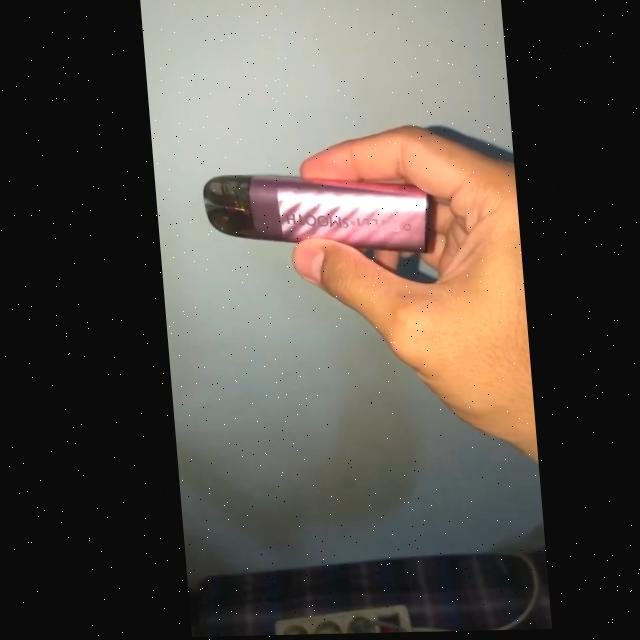vape: (197, 170, 433, 258)
